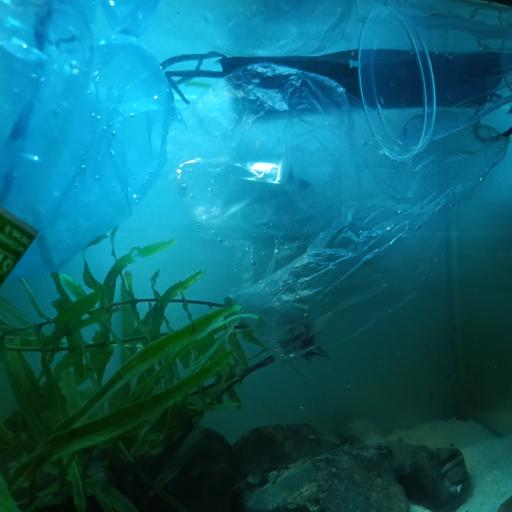mask: (162, 49, 512, 144)
plastic_bag: (169, 63, 512, 367), (0, 1, 180, 284)
plastic_bottle: (1, 0, 103, 292)
plastic_cup: (356, 2, 512, 163)
